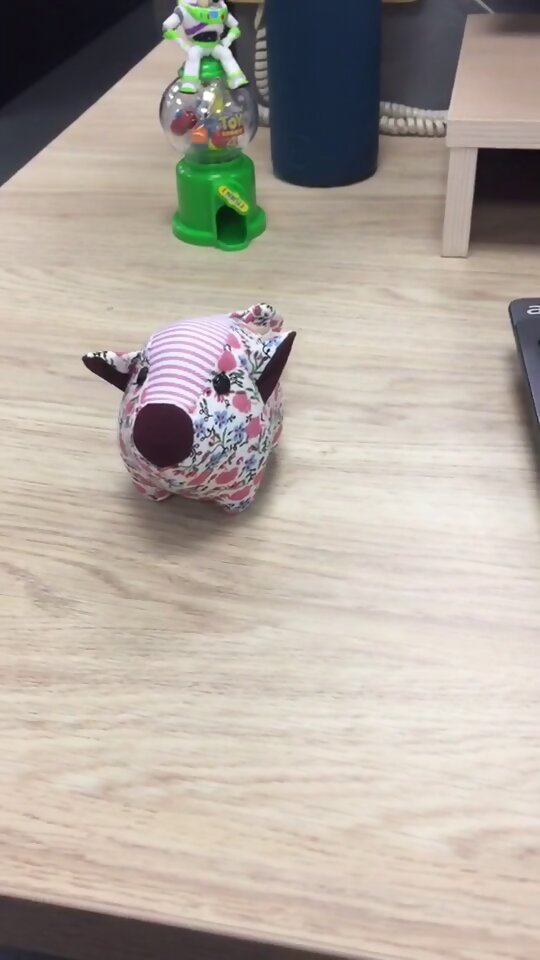pig: (78, 299, 304, 513)
